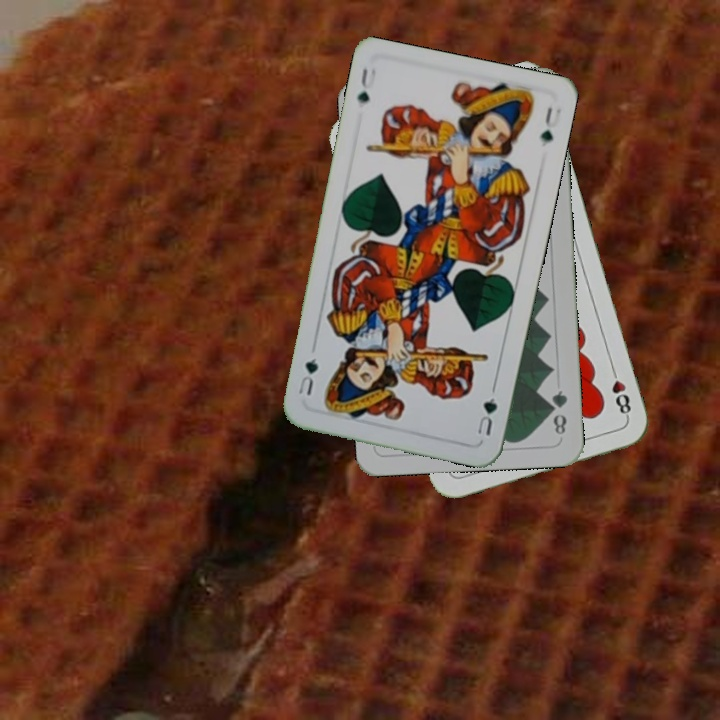G8: (546, 386, 570, 437)
GU: (472, 393, 500, 439), (353, 64, 376, 106)
H8: (607, 363, 634, 421)
